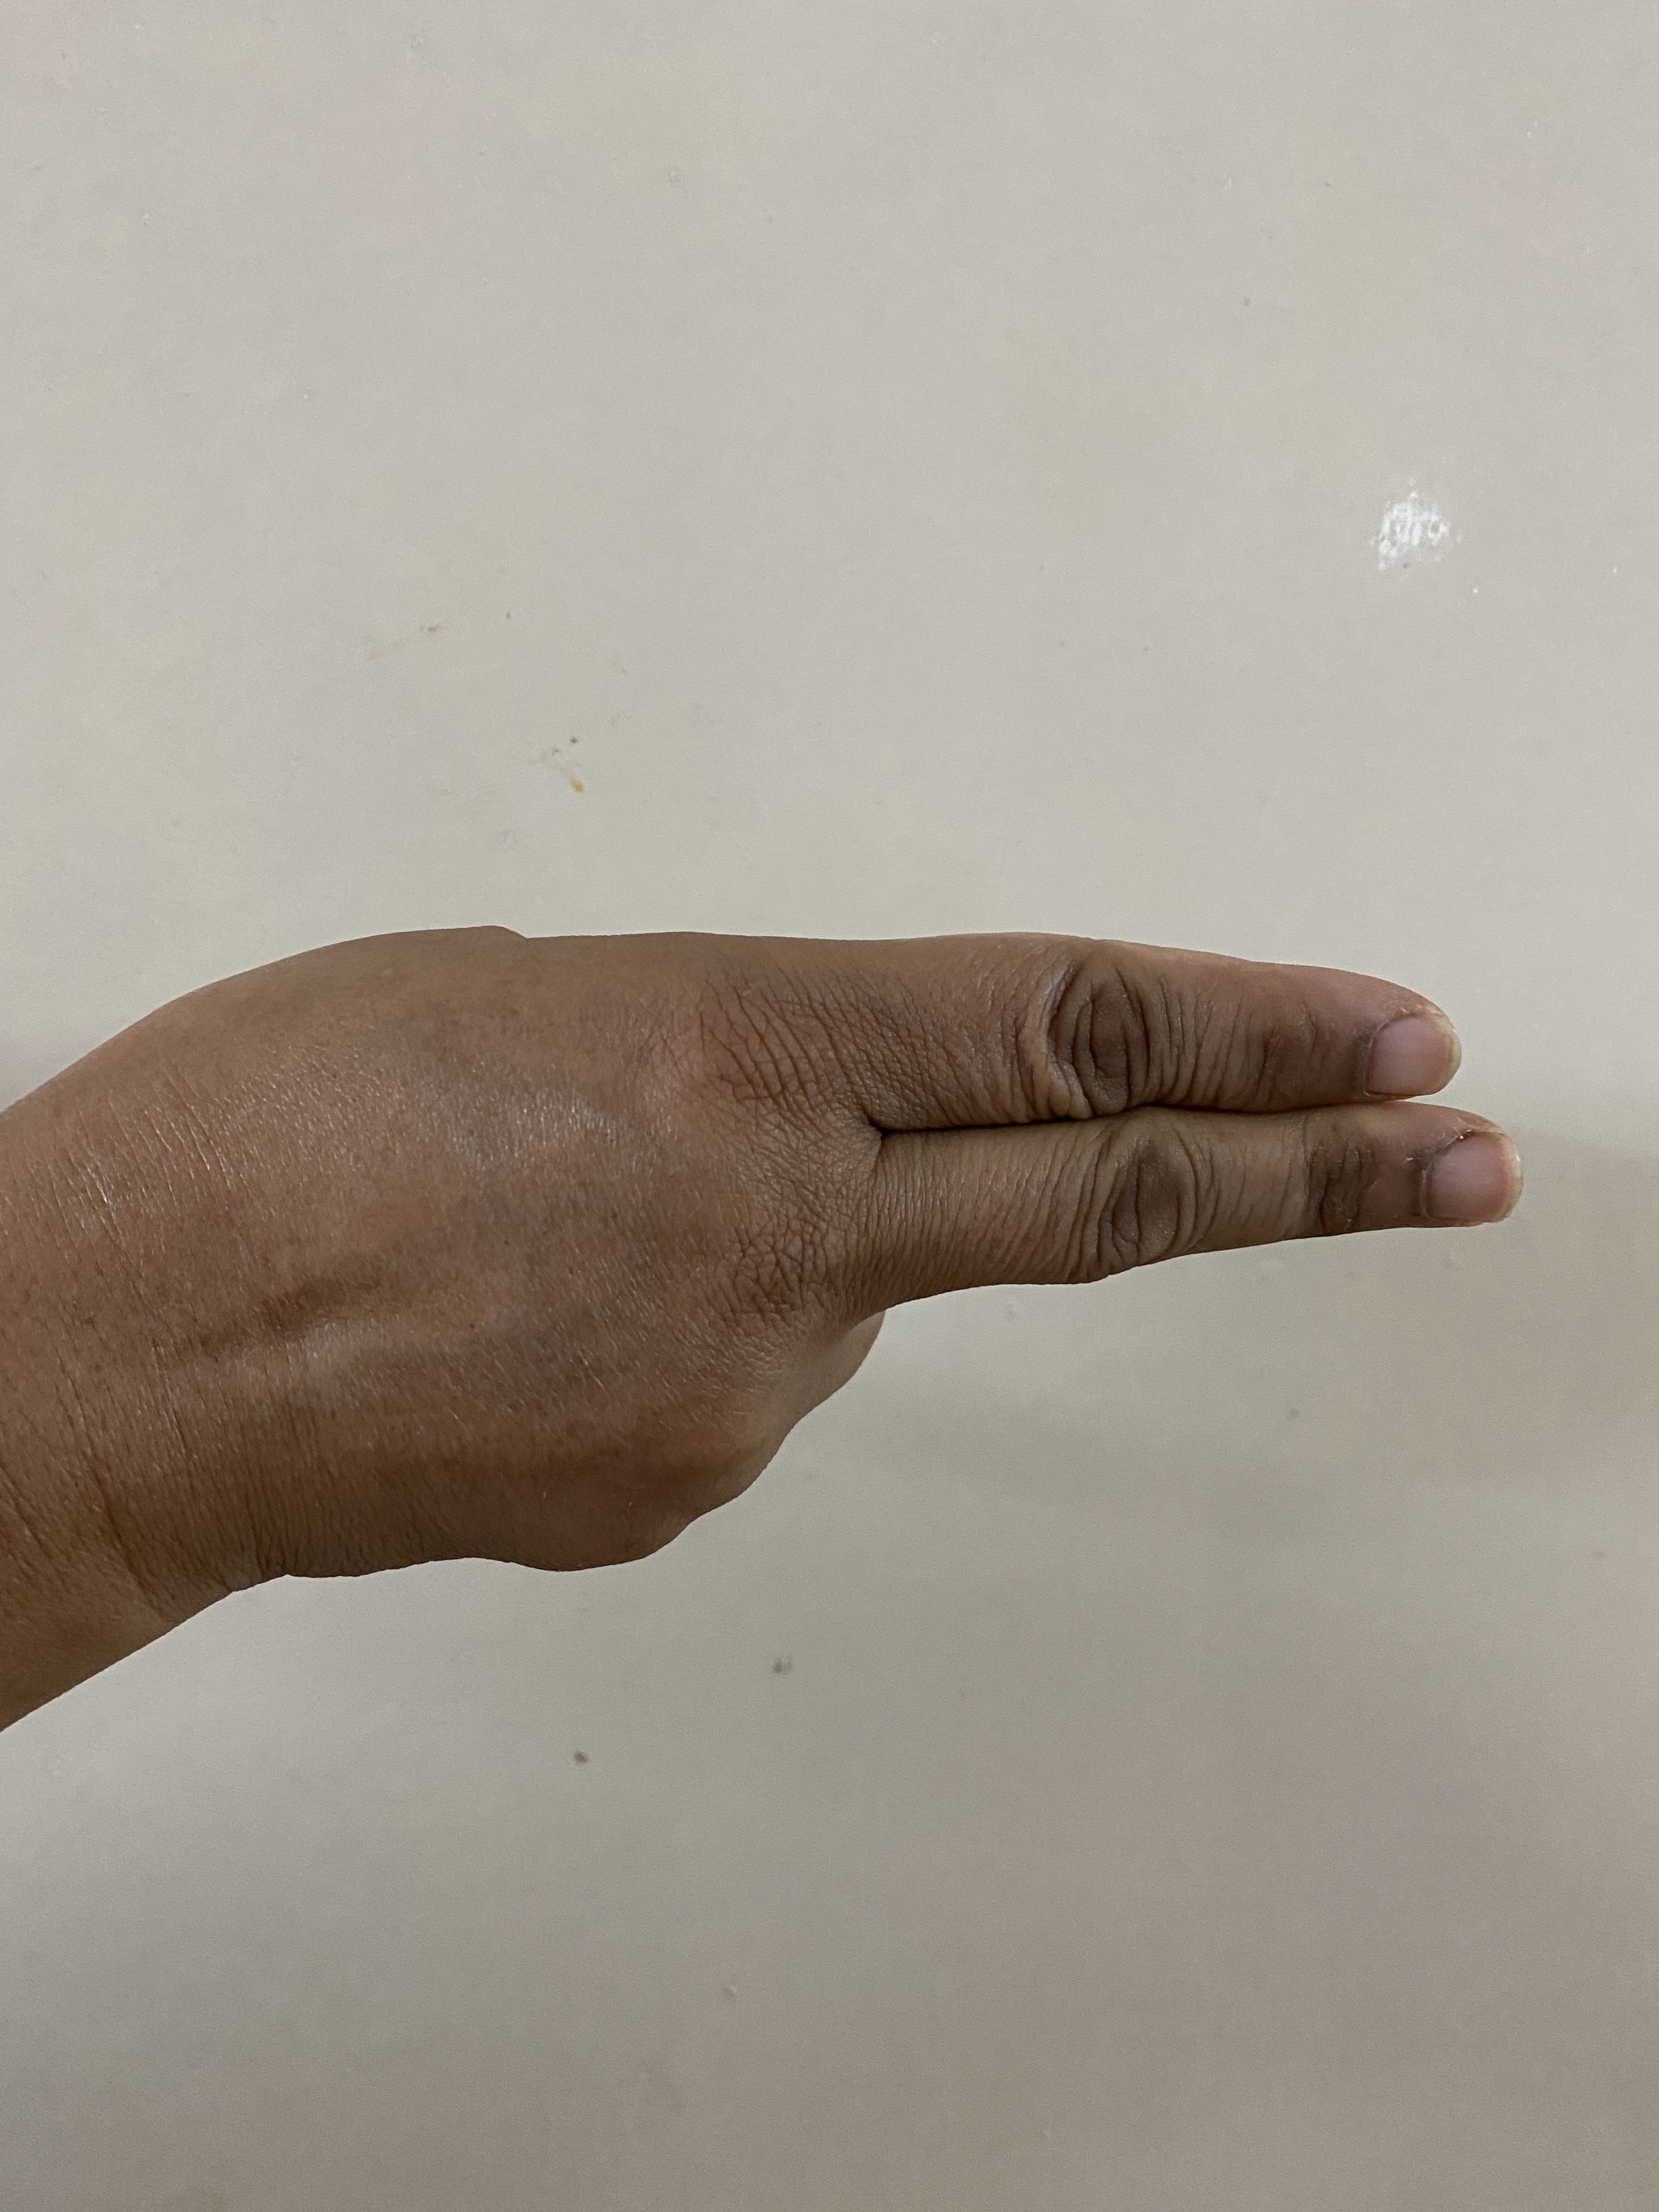left: (5, 758, 1551, 1759)
